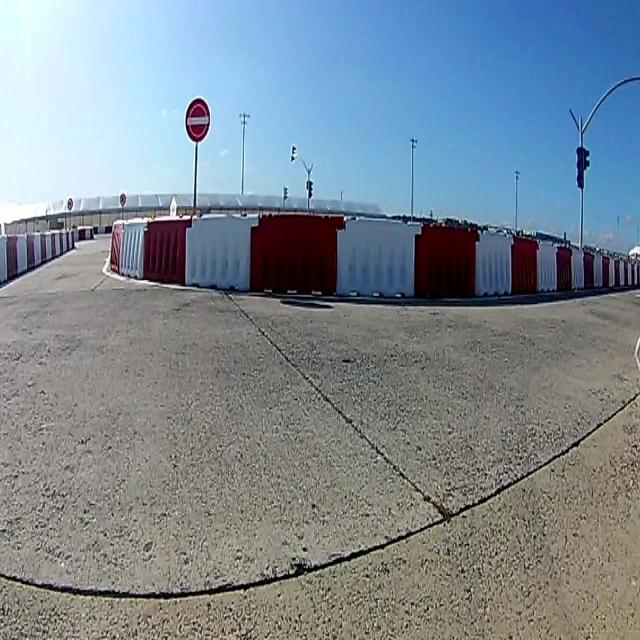girisyok: (186, 96, 210, 140)
